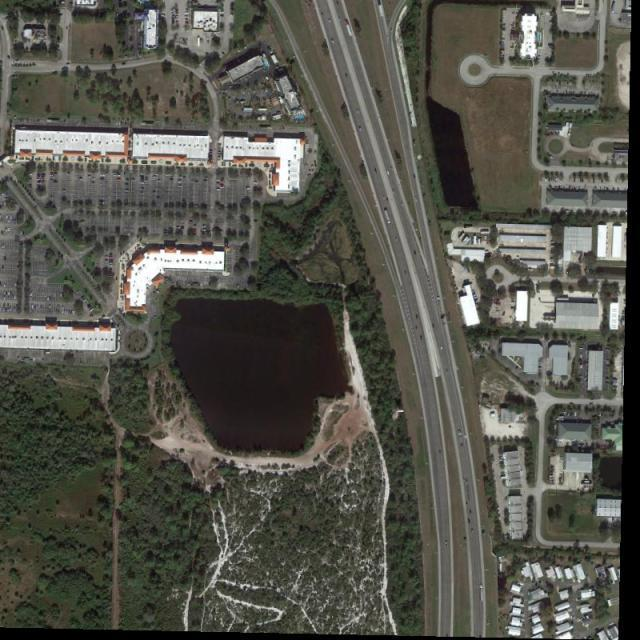vehicle: (344, 20, 354, 37), (384, 210, 392, 225)
